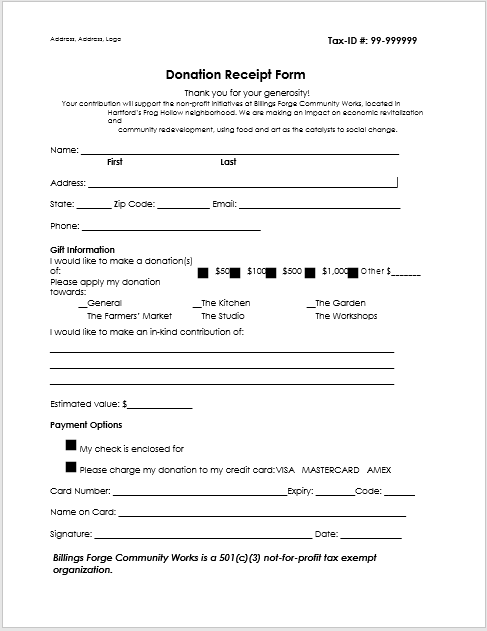checkbox: (63, 458, 78, 476), (195, 265, 211, 281), (262, 266, 278, 281), (63, 437, 78, 452), (346, 265, 360, 281), (303, 264, 316, 281), (227, 264, 240, 279)
textline: (47, 337, 397, 356), (85, 172, 399, 190), (116, 504, 409, 521), (46, 357, 396, 371), (46, 373, 396, 387), (79, 143, 399, 157), (93, 525, 314, 541), (79, 218, 264, 233), (110, 484, 288, 499), (234, 197, 402, 211), (338, 524, 405, 541), (125, 395, 194, 411), (154, 195, 212, 211), (313, 484, 355, 500), (75, 196, 114, 210), (381, 484, 416, 499), (391, 265, 422, 278), (190, 297, 202, 311), (77, 298, 89, 311), (304, 298, 315, 311)
